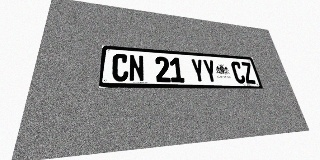1: (169, 57, 185, 83)
2: (155, 56, 171, 82)
C: (112, 53, 128, 82), (230, 61, 246, 84)
N: (129, 54, 145, 82)
Y: (190, 59, 206, 83), (202, 59, 218, 83)
Z: (240, 62, 256, 84)
